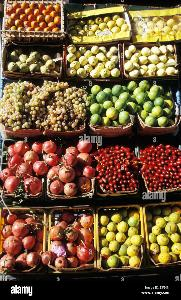apple: (68, 5, 132, 41), (132, 7, 181, 44)
grape: (0, 82, 86, 136)
guava: (65, 44, 123, 76), (124, 44, 180, 76)
lemon: (97, 207, 147, 271), (148, 208, 181, 267)
mango: (88, 81, 136, 129), (136, 80, 181, 130)
pear: (2, 44, 64, 74)
pomegranate: (0, 137, 48, 199), (47, 210, 95, 270), (0, 207, 44, 271), (50, 140, 96, 196)
